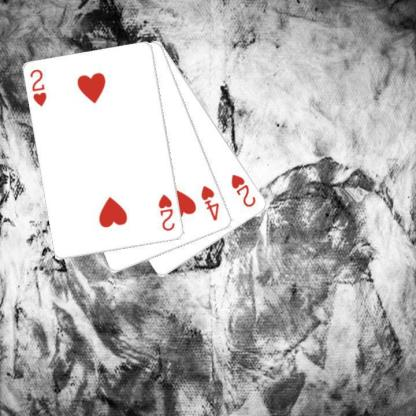2H: (228, 172, 258, 208), (156, 192, 177, 233), (27, 67, 48, 108)
4H: (198, 183, 221, 223)
